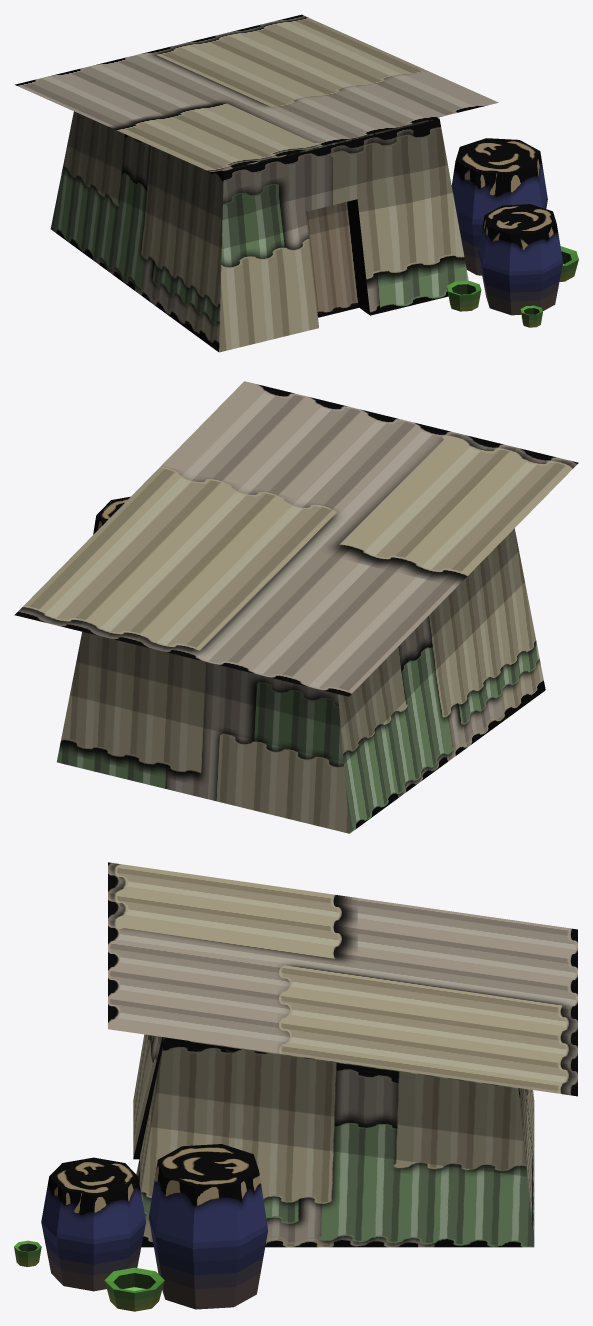
File: CasaFuturista.fbx
3 renders of one model, top to bottom at view 1: azimuth 30°, elevation 25°; view 2: azimuth 150°, elevation 25°; view 3: azimuth 270°, elevation 25°, orthographic. The views are drawn at different scales.
Visible parts, largest first — view 1: Cube; view 2: Cube; view 3: Cube.
Part boxes in pixels (box(x1,y1,x2,y2)): Cube: box(15, 14, 578, 352); Cube: box(14, 381, 578, 833); Cube: box(14, 862, 577, 1311).
Bounding box in the file's own units: 540 × 272 × 590.
1 material, 1 textured.
